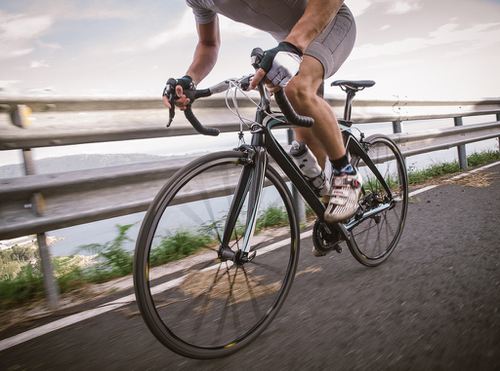bikerider: (125, 1, 411, 362)
